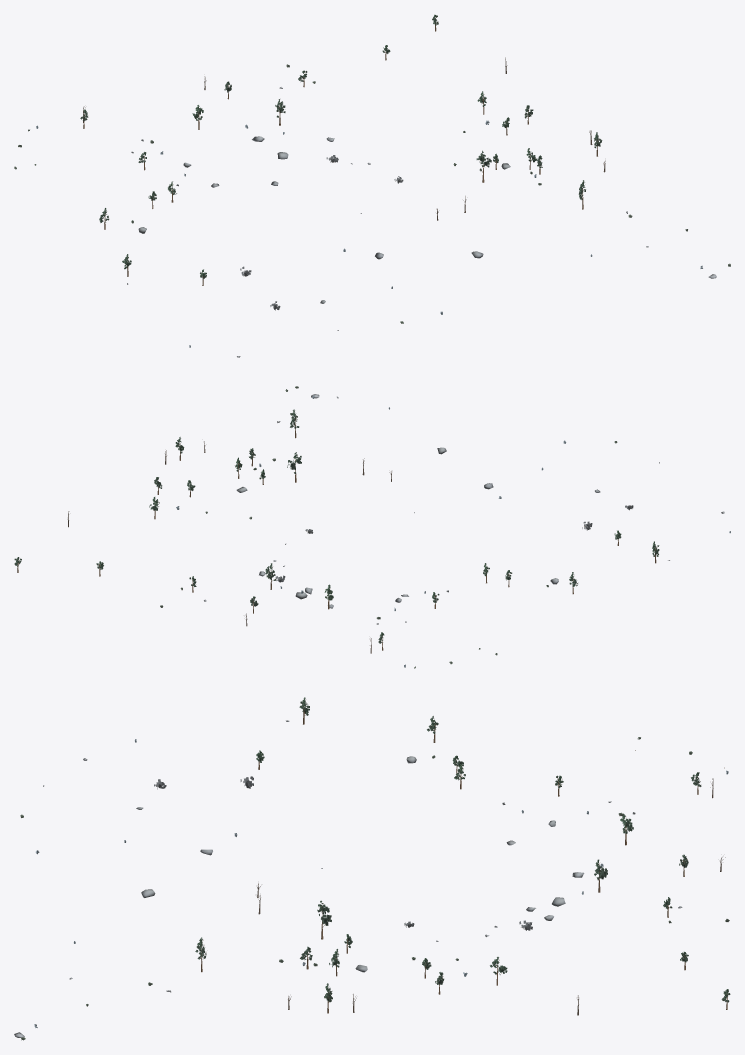
The model's file is frost_land_scatter_c15_10.glb.
3 renders of one model, top to bottom at view 1: azimuth 30°, elevation 25°; view 2: azimuth 150°, elevation 25°; view 3: azimuth 270°, elevation 25°, orthographic. The views are drawn at different scales.
Visible parts, largest first — view 1: frost_land_scatter_c15_10; view 2: frost_land_scatter_c15_10; view 3: frost_land_scatter_c15_10.
Part boxes in pixels (left/top/right/bottom): frost_land_scatter_c15_10: left=14, top=14, right=730, bottom=357; frost_land_scatter_c15_10: left=14, top=386, right=730, bottom=668; frost_land_scatter_c15_10: left=14, top=697, right=730, bottom=1040.
Size of the model in its own units: 247 by 32.01 by 252.
